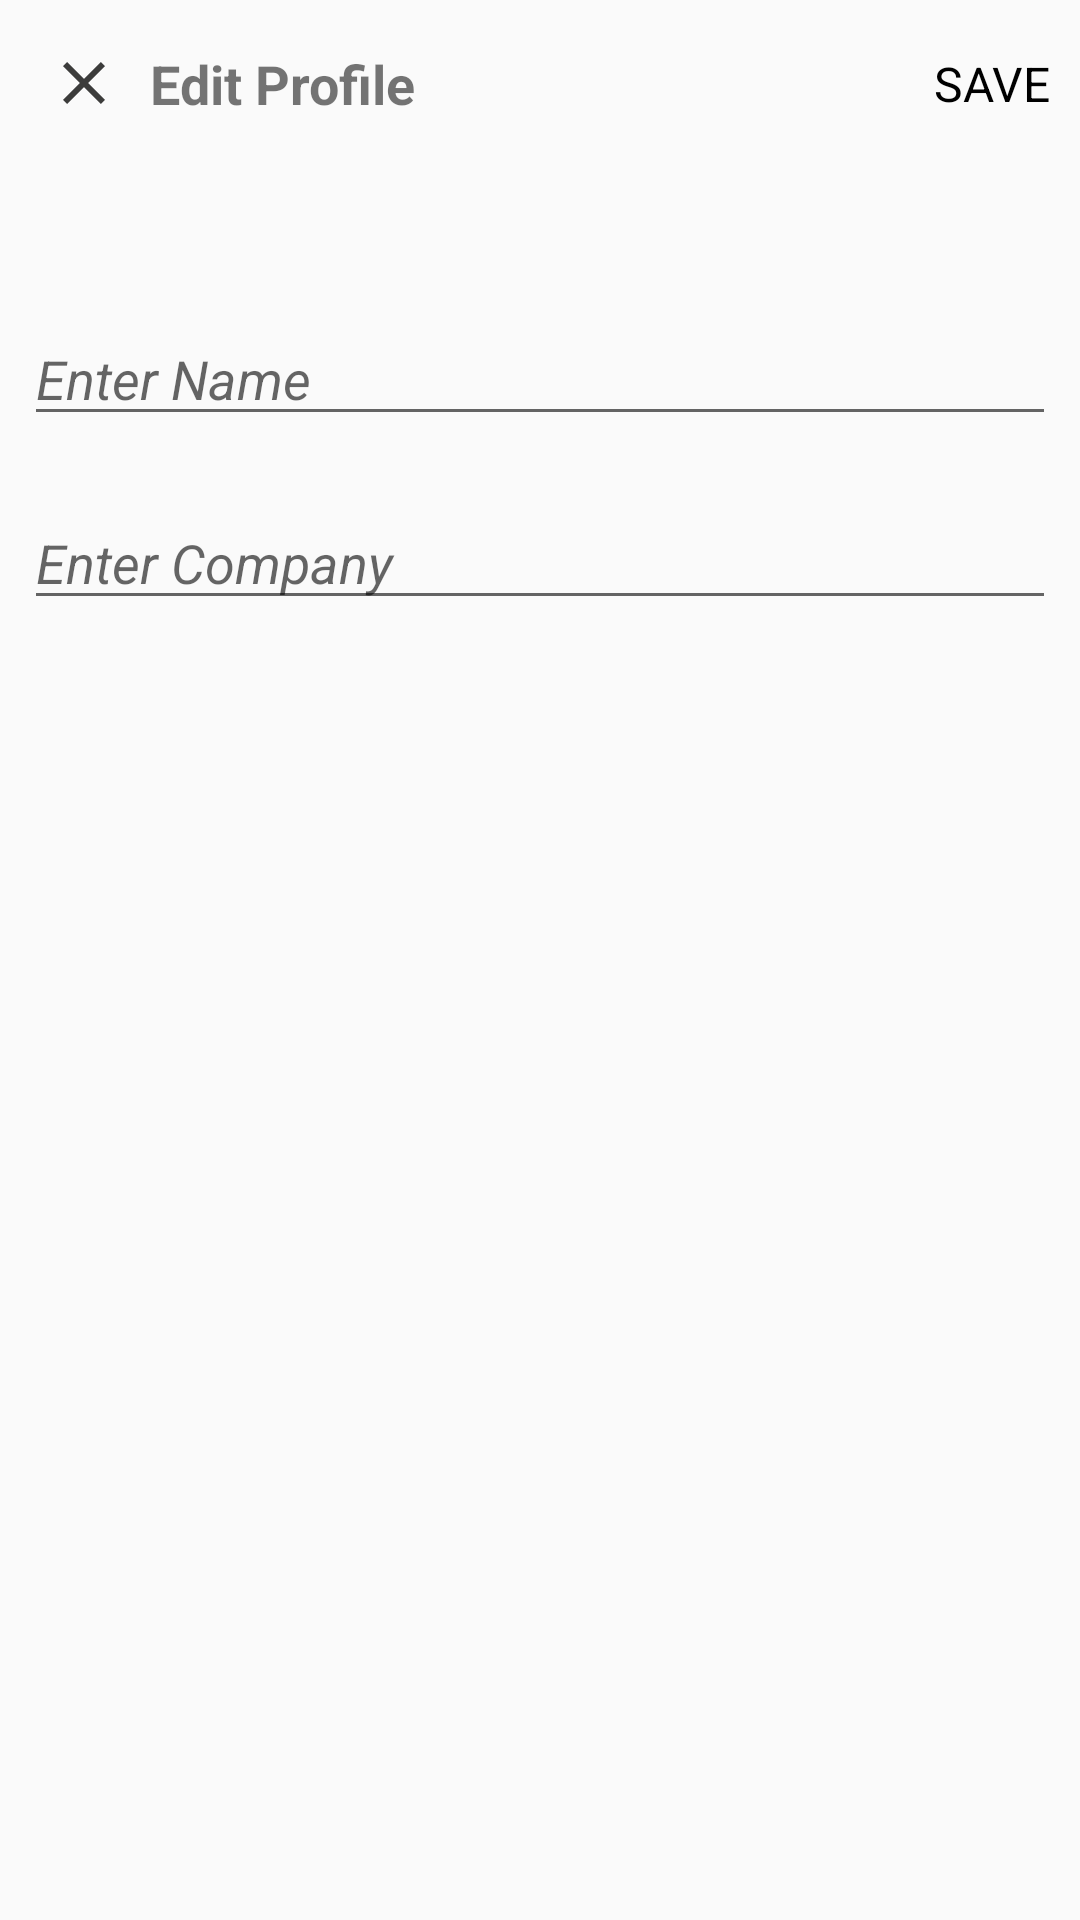

Screen size 1080 × 1920. Icon name, then its box in pixels as (x1, y1, x2, y2):
close: (63, 62, 105, 104)
